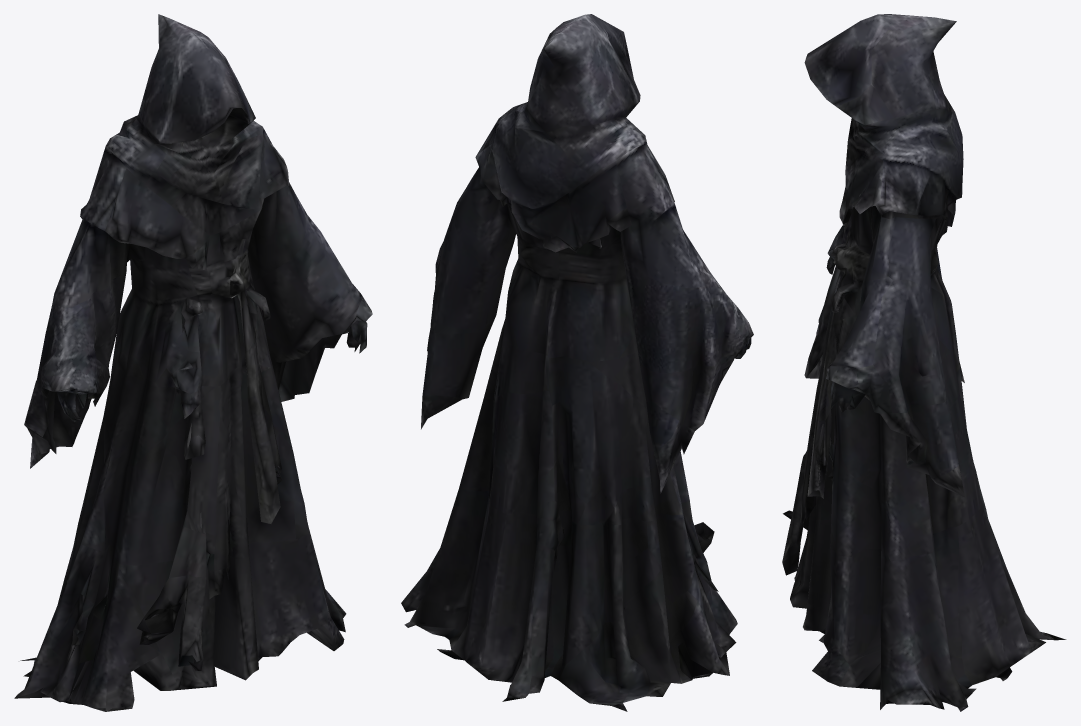
The model's file is hover-mage-lod.glb.
3 views of the same model, side by side, from view 1: azimuth 30°, elevation 25°; view 2: azimuth 150°, elevation 25°; view 3: azimuth 270°, elevation 25° (orthographic). The views are drawn at different scales.
Visible parts, largest first — view 1: tripo_node_963a8f64-aa9d-4b58-96d3-d6abae2000ba_tripo_node_9; view 2: tripo_node_963a8f64-aa9d-4b58-96d3-d6abae2000ba_tripo_node_9; view 3: tripo_node_963a8f64-aa9d-4b58-96d3-d6abae2000ba_tripo_node_9.
Part boxes in pixels (left/top/right/bottom): tripo_node_963a8f64-aa9d-4b58-96d3-d6abae2000ba_tripo_node_9: left=14, top=14, right=372, bottom=711; tripo_node_963a8f64-aa9d-4b58-96d3-d6abae2000ba_tripo_node_9: left=401, top=14, right=753, bottom=711; tripo_node_963a8f64-aa9d-4b58-96d3-d6abae2000ba_tripo_node_9: left=782, top=14, right=1066, bottom=711.
Bounding box in the file's own units: 0.5264 × 0.9952 × 0.403.
Materials: 1 (1 with a texture image).
